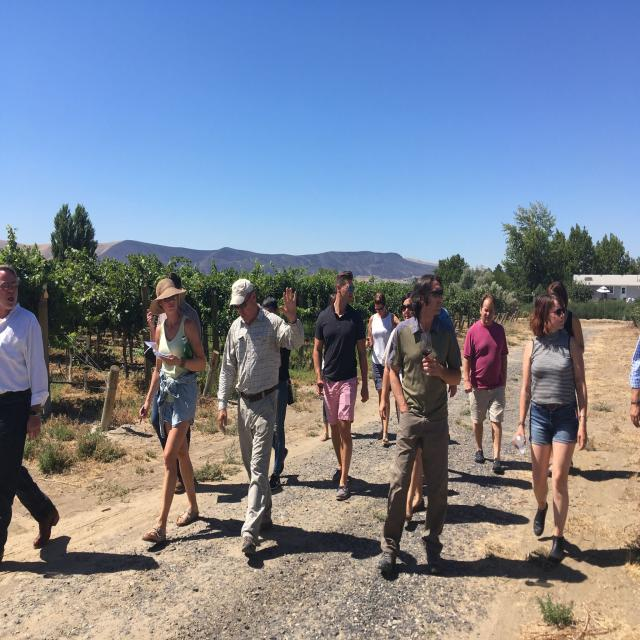body: (376, 272, 462, 578), (216, 276, 306, 557), (515, 289, 589, 567), (138, 277, 208, 546), (0, 261, 60, 572), (313, 268, 372, 500), (146, 272, 202, 493), (378, 292, 426, 524), (407, 274, 462, 448), (462, 293, 510, 474), (261, 295, 295, 490), (365, 292, 397, 446), (543, 278, 586, 357), (320, 292, 337, 442), (629, 331, 640, 427)
